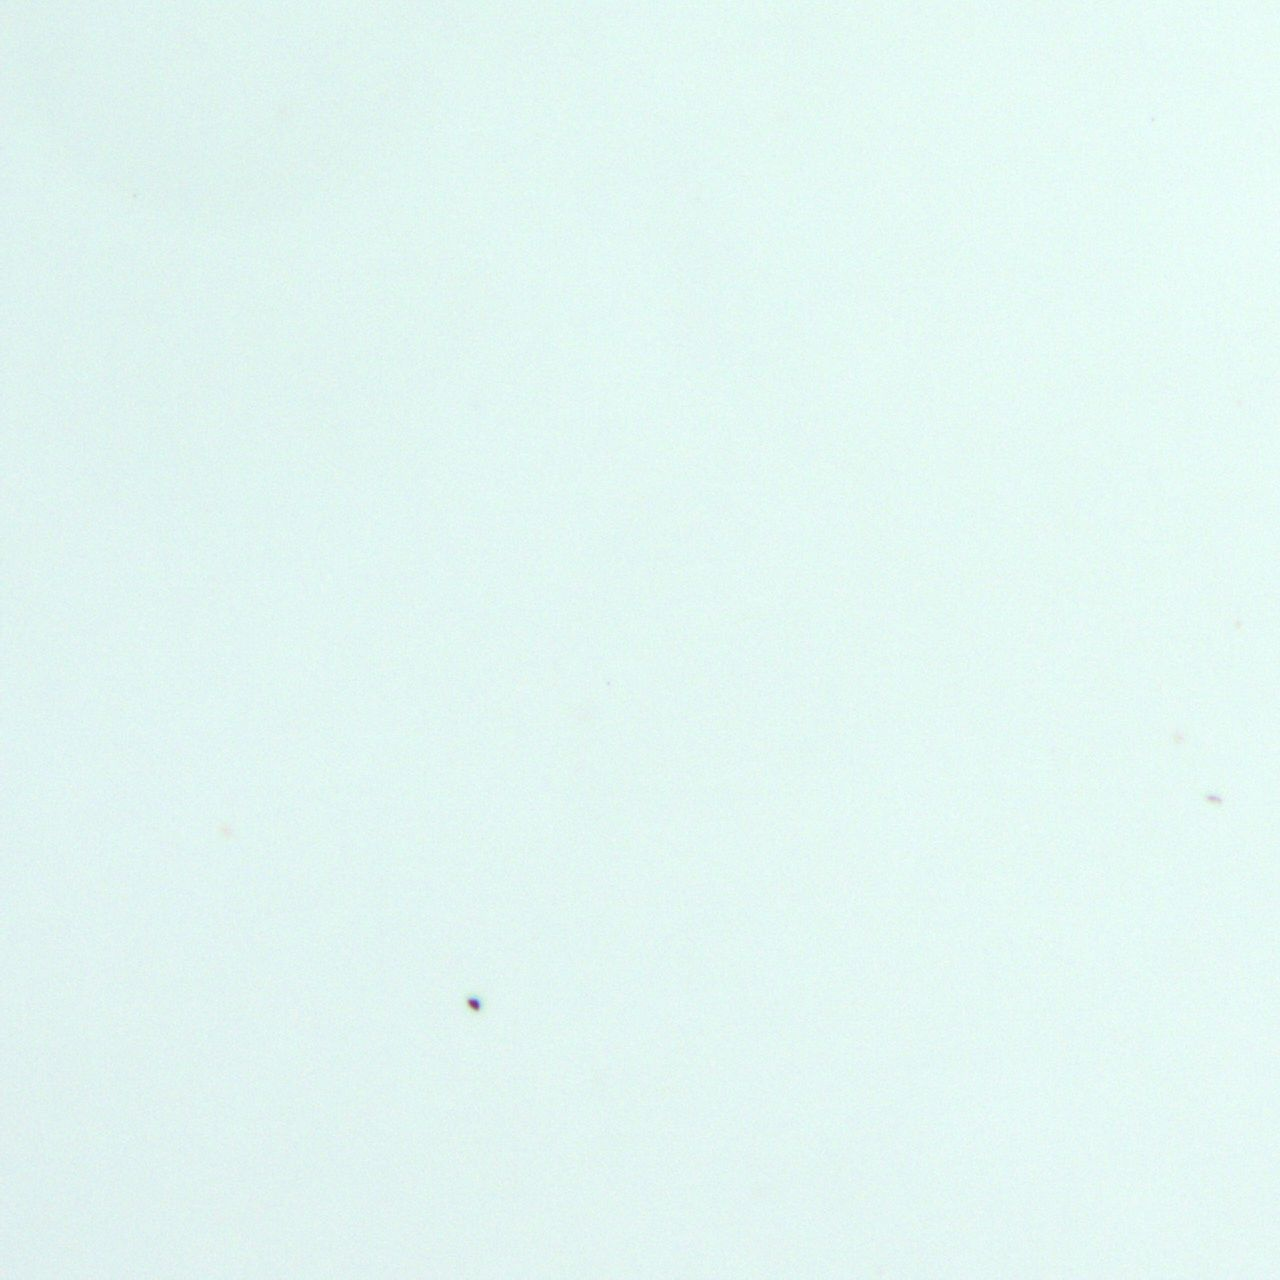dust: (463, 998, 483, 1012)
